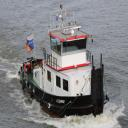tugboat: (17, 4, 112, 125)
